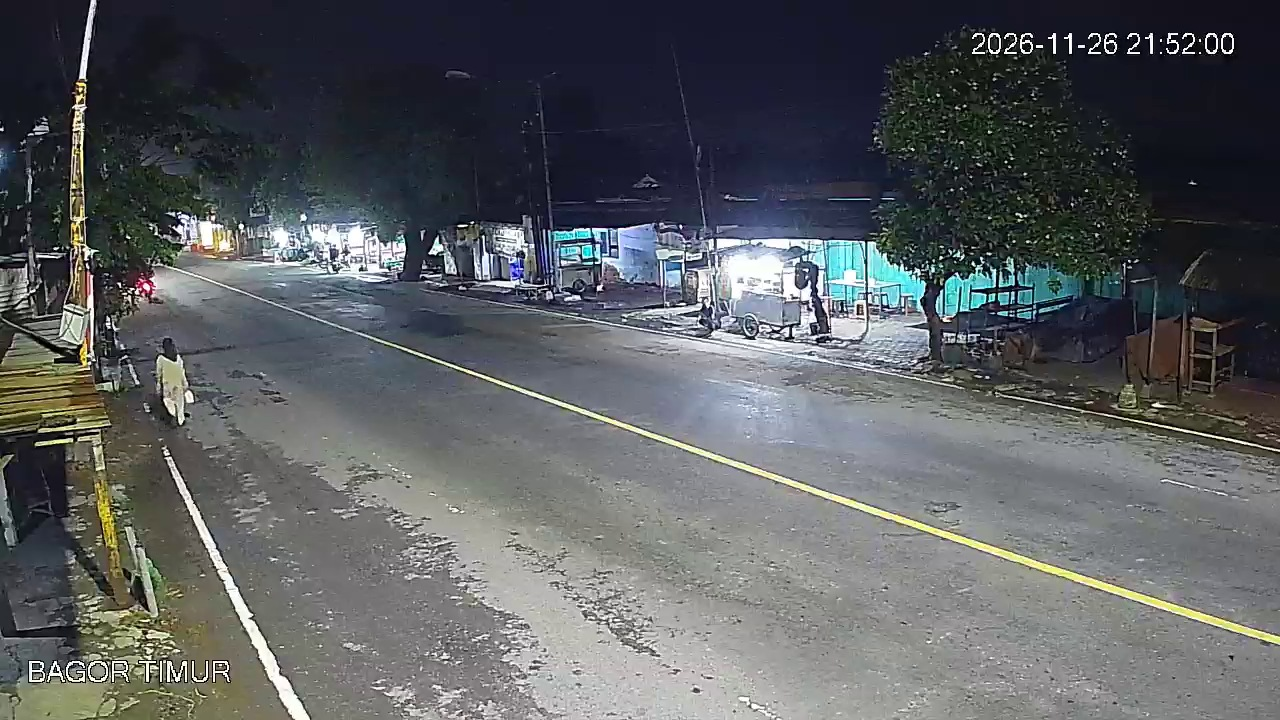Gerobak: (704, 242, 827, 339)
